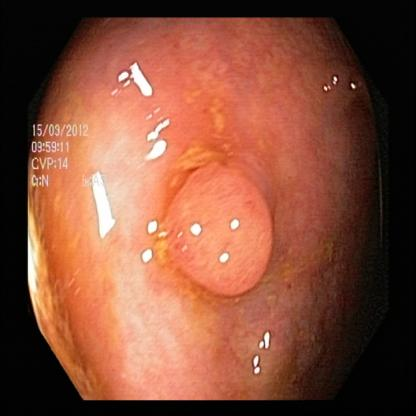Labels: (31, 123, 107, 189)
Polyps: (161, 163, 286, 296)
